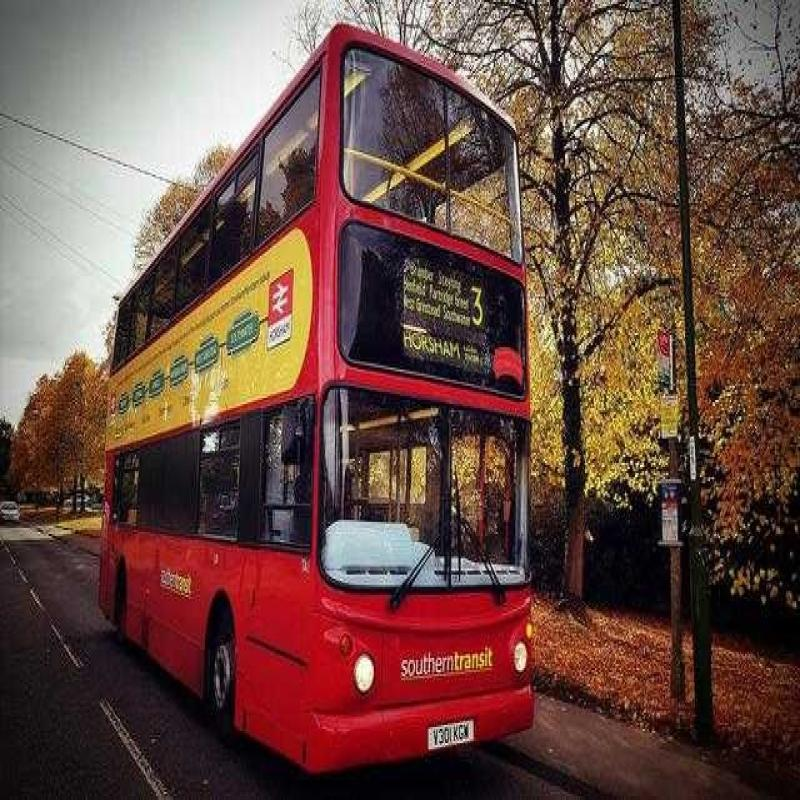bus: (106, 27, 565, 800)
